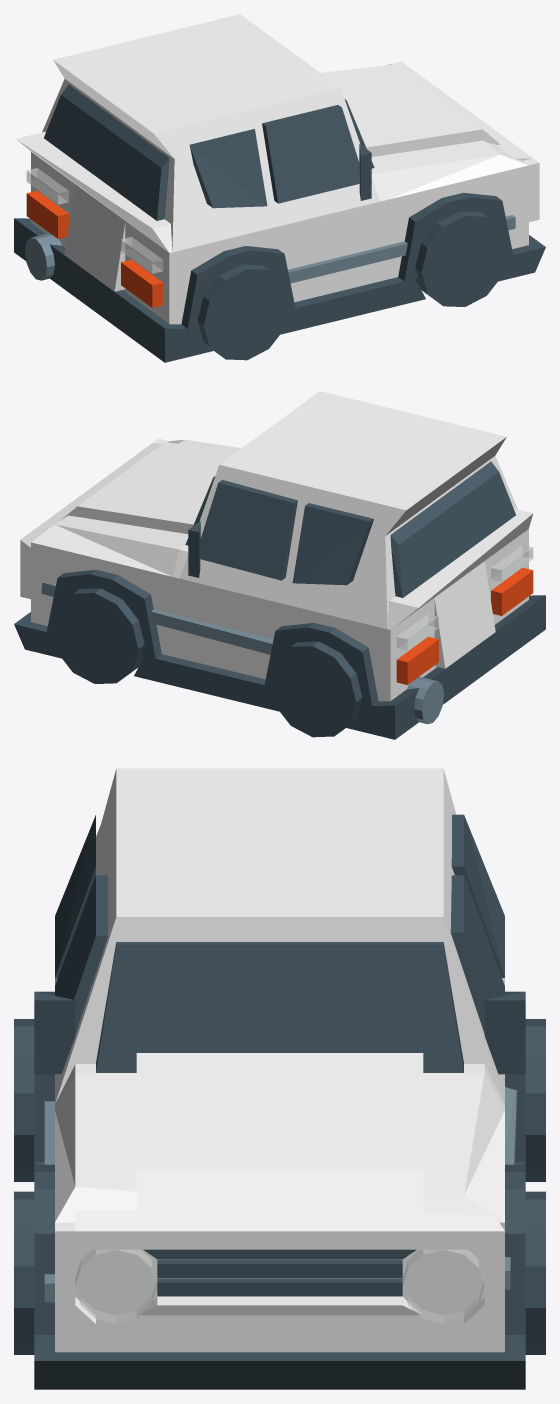
File: vw_golf_mk.glb
3 views of the same model, one above another, from view 1: azimuth 30°, elevation 25°; view 2: azimuth 150°, elevation 25°; view 3: azimuth 270°, elevation 25° (orthographic). The views are drawn at different scales.
Visible parts, largest first — view 1: group2017902997, group842921121, group373236087, group2060816111, group686971371, group2118011109, group359046379, group2008520726, group159400031, group1903564485, group1129954348, group1603761372 (+5 smaller); view 2: group2017902997, group547768100, group373236087, group2060816111, group686971371, group2118011109, group359046379, group2008520726, group1729932470, group740239471, group1603761372, group1129954348 (+5 smaller); view 3: group2017902997, group583836635, group1372723494, group1092676882, group2044362016, group10036750, group547768100, group2060816111, group686971371, group842921121, group1729932470, group159400031 (+6 smaller).
Boxes of the visible parts, x1=… form: group2017902997: x1=16, y1=14, x2=528, y2=324; group842921121: x1=189, y1=105, x2=359, y2=208; group373236087: x1=44, y1=84, x2=169, y2=220; group2060816111: x1=415, y1=211, x2=508, y2=306; group686971371: x1=197, y1=264, x2=290, y2=360; group2118011109: x1=14, y1=218, x2=213, y2=362; group359046379: x1=64, y1=184, x2=125, y2=291; group2008520726: x1=280, y1=277, x2=425, y2=334; group159400031: x1=398, y1=192, x2=513, y2=281; group1903564485: x1=181, y1=246, x2=295, y2=329; group1129954348: x1=26, y1=168, x2=68, y2=238; group1603761372: x1=121, y1=237, x2=163, y2=307; group2017902997: x1=31, y1=391, x2=533, y2=701; group547768100: x1=200, y1=480, x2=373, y2=585; group373236087: x1=390, y1=461, x2=515, y2=597; group2060816111: x1=51, y1=588, x2=144, y2=683; group686971371: x1=269, y1=641, x2=362, y2=737; group2118011109: x1=346, y1=595, x2=545, y2=739; group359046379: x1=434, y1=561, x2=495, y2=668; group2008520726: x1=134, y1=654, x2=279, y2=711; group1729932470: x1=46, y1=569, x2=161, y2=658; group740239471: x1=264, y1=623, x2=378, y2=706; group1603761372: x1=491, y1=545, x2=533, y2=615; group1129954348: x1=396, y1=614, x2=438, y2=684; group2017902997: x1=55, y1=768, x2=504, y2=1352; group583836635: x1=96, y1=942, x2=463, y2=1072; group1372723494: x1=55, y1=1210, x2=504, y2=1323; group1092676882: x1=34, y1=1335, x2=525, y2=1389; group2044362016: x1=143, y1=1249, x2=416, y2=1296; group10036750: x1=75, y1=1250, x2=484, y2=1323; group547768100: x1=450, y1=814, x2=504, y2=1033; group2060816111: x1=14, y1=1191, x2=545, y2=1354; group686971371: x1=14, y1=1019, x2=545, y2=1181; group842921121: x1=55, y1=815, x2=107, y2=1033; group1729932470: x1=505, y1=1164, x2=525, y2=1334; group159400031: x1=34, y1=1164, x2=54, y2=1334.
Size of the model in its own units: 4.2 by 2.24 by 3.03.
